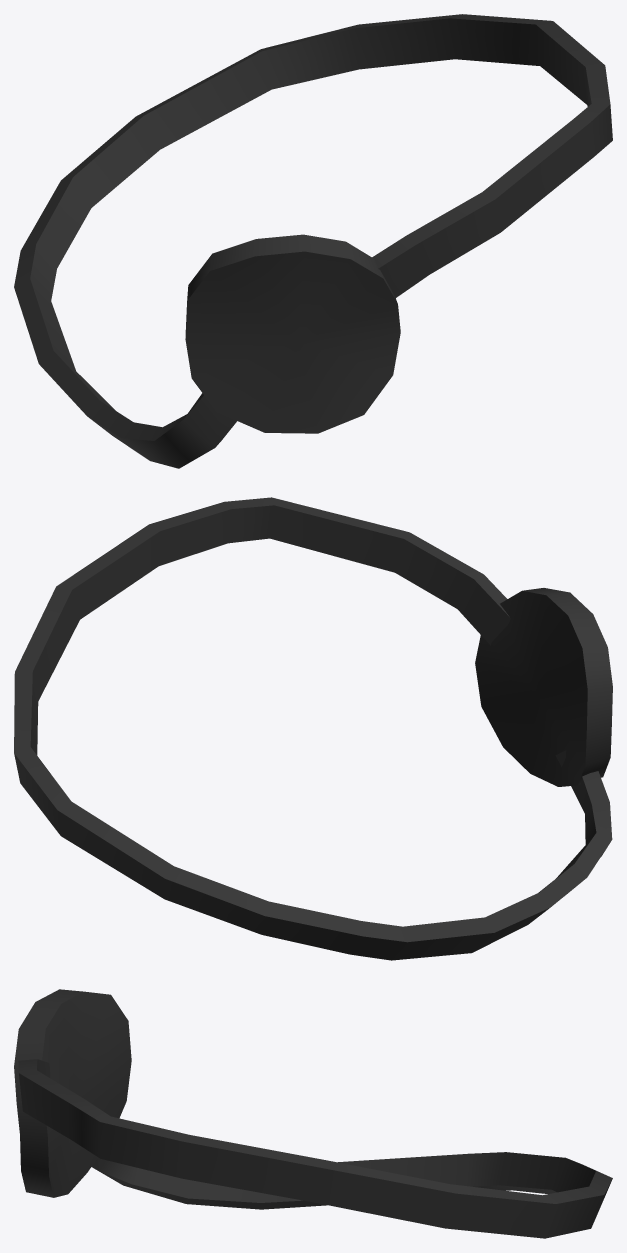
File: Eyewear_1.fbx
3 views of the same model, one above another, from view 1: azimuth 30°, elevation 25°; view 2: azimuth 150°, elevation 25°; view 3: azimuth 270°, elevation 25° (orthographic). The views are drawn at different scales.
Parts seen in each view (by area): view 1: Eyewear_1; view 2: Eyewear_1; view 3: Eyewear_1.
Boxes of the visible parts, x1,y1,x2,y2 form: Eyewear_1: [14, 14, 612, 468]; Eyewear_1: [14, 497, 612, 960]; Eyewear_1: [14, 989, 612, 1238].
Bounding box in the file's own units: 47.41 × 26.65 × 51.4.
